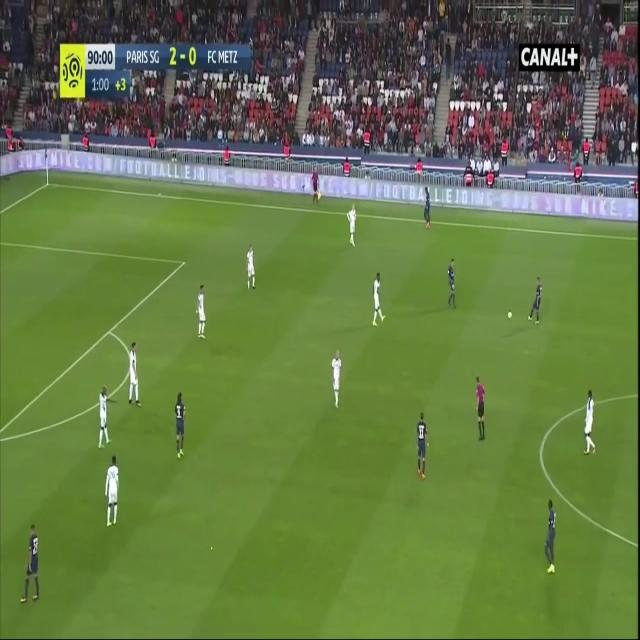Ball: (506, 309, 514, 322)
Player: (19, 520, 44, 608), (542, 498, 559, 578), (413, 410, 431, 482), (104, 454, 120, 533), (581, 388, 598, 461), (96, 384, 112, 455), (370, 270, 387, 331), (173, 390, 187, 462), (127, 340, 141, 410), (330, 349, 346, 410), (194, 281, 208, 348), (526, 277, 544, 329), (443, 257, 458, 311), (244, 243, 257, 294), (345, 203, 359, 250), (421, 186, 434, 230)
Referee: (472, 374, 488, 443), (309, 167, 321, 206)
